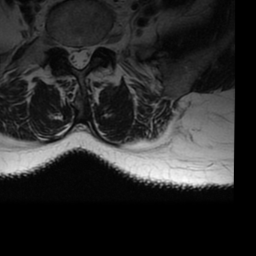CCS_normal: (74, 35, 83, 76)
LFS_severe_stenosis: (92, 31, 102, 58)
LLS_normal: (83, 35, 92, 71)
RFS_severe_stenosis: (58, 29, 67, 57)
RLS_normal: (67, 36, 74, 71)
